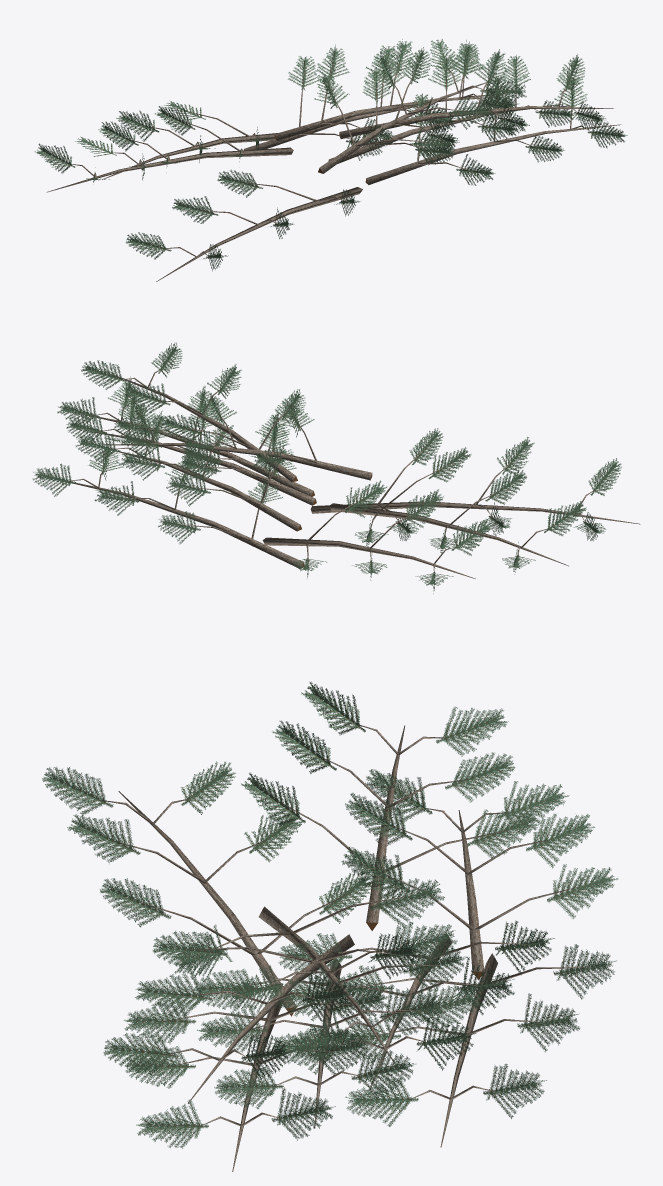
The model's file is SS_Brash_Green_02_LOD2.fbx.
The picture shows the model from 3 angles, top to bottom: view 1: azimuth 30°, elevation 25°; view 2: azimuth 150°, elevation 25°; view 3: azimuth 270°, elevation 25°; orthographic projection. The views are drawn at different scales.
Visible parts, largest first — view 1: SS_Brash_Green_02_LOD2_Foliage, SS_Brash_Green_02_LOD2_Structure; view 2: SS_Brash_Green_02_LOD2_Foliage, SS_Brash_Green_02_LOD2_Structure; view 3: SS_Brash_Green_02_LOD2_Foliage, SS_Brash_Green_02_LOD2_Structure.
Boxes of the visible parts, x1,y1,x2,y2 form: SS_Brash_Green_02_LOD2_Foliage: (34, 39, 627, 271); SS_Brash_Green_02_LOD2_Structure: (46, 62, 621, 281); SS_Brash_Green_02_LOD2_Foliage: (32, 342, 621, 593); SS_Brash_Green_02_LOD2_Structure: (53, 369, 640, 578); SS_Brash_Green_02_LOD2_Foliage: (42, 681, 618, 1148); SS_Brash_Green_02_LOD2_Structure: (100, 723, 591, 1171).
Size of the model in its own units: 645 by 142 by 406.
Materials: 3 (3 with a texture image).
